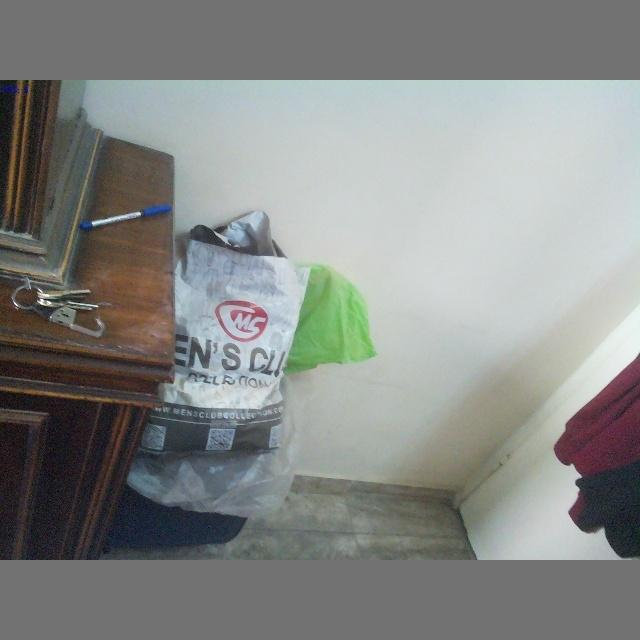Keys: (8, 264, 114, 348)
